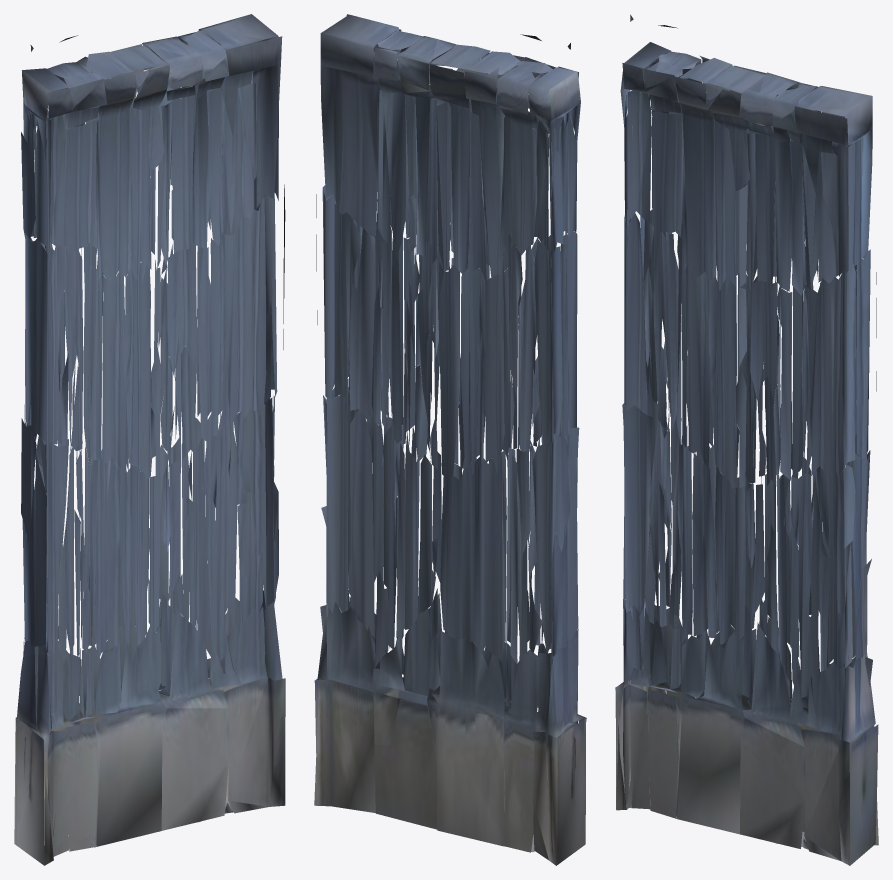
Rendered from infill_1m.glb.
The picture shows the model from 3 angles, left to right: view 1: azimuth 30°, elevation 25°; view 2: azimuth 150°, elevation 25°; view 3: azimuth 330°, elevation 25°; orthographic projection. The views are drawn at different scales.
Visible parts, largest first — view 1: Industrial_infill_1m; view 2: Industrial_infill_1m; view 3: Industrial_infill_1m.
Part boxes in pixels (x1,y1,x2,y2): Industrial_infill_1m: [14, 14, 285, 865]; Industrial_infill_1m: [314, 14, 586, 865]; Industrial_infill_1m: [615, 14, 878, 865].
Bounding box in the file's own units: 0.9942 × 2.97 × 0.1984.
1 material, 1 textured.
